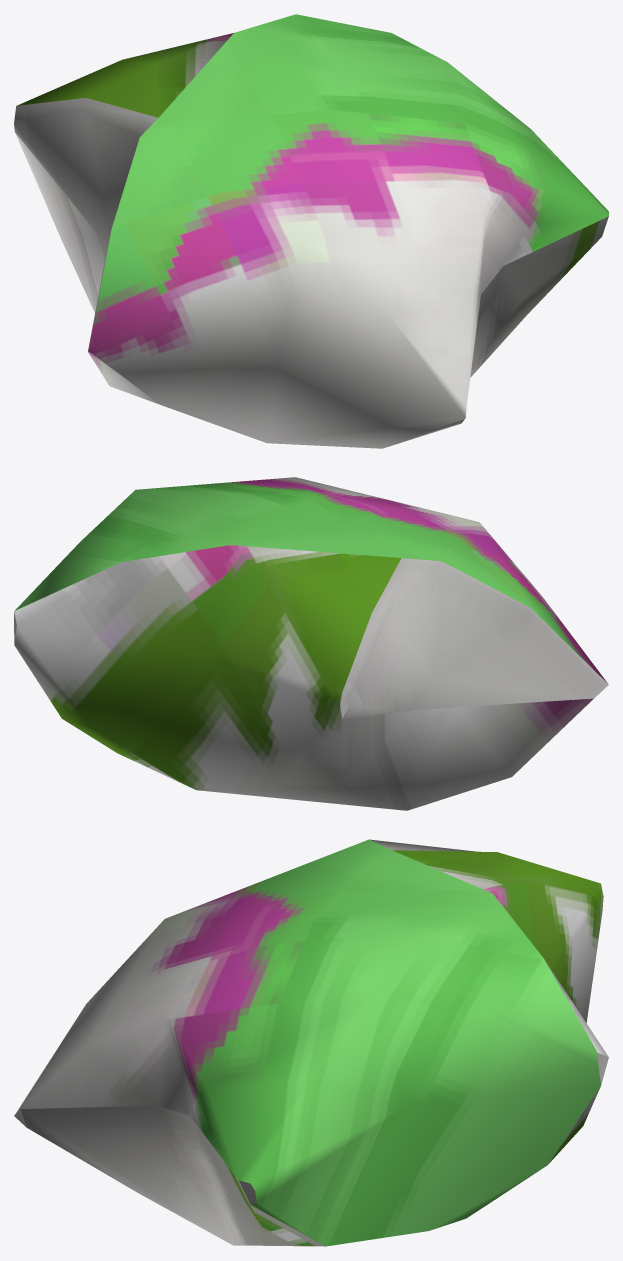
The model's file is ref_gtpaperstar.fbx.
The picture shows the model from 3 angles, top to bottom: view 1: azimuth 30°, elevation 25°; view 2: azimuth 150°, elevation 25°; view 3: azimuth 270°, elevation 25°; orthographic projection. The views are drawn at different scales.
Parts seen in each view (by area): view 1: ref_gtpaperstar; view 2: ref_gtpaperstar; view 3: ref_gtpaperstar.
Part boxes in pixels (x1,y1,x2,y2): ref_gtpaperstar: [14, 14, 608, 448]; ref_gtpaperstar: [14, 477, 608, 810]; ref_gtpaperstar: [14, 839, 608, 1246].
Size of the model in its own units: 100 by 54.7 by 95.54.
